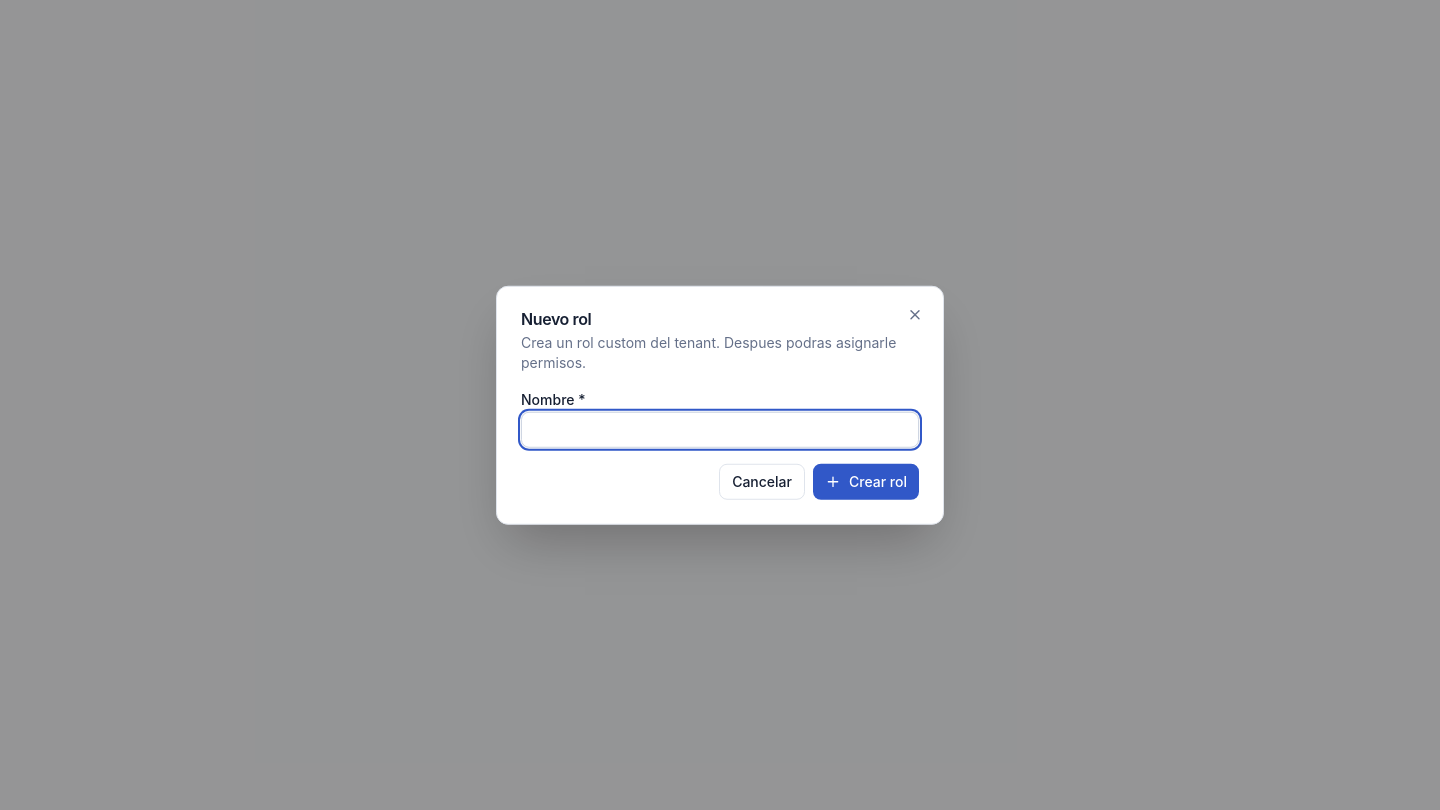
Test: RoleEditor › muestra error de validacion con nombre vacio
This screenshot has width=1440, height=810.
Click the button with test id "role-editor-submit" at (866, 481), box [813,463,919,499]
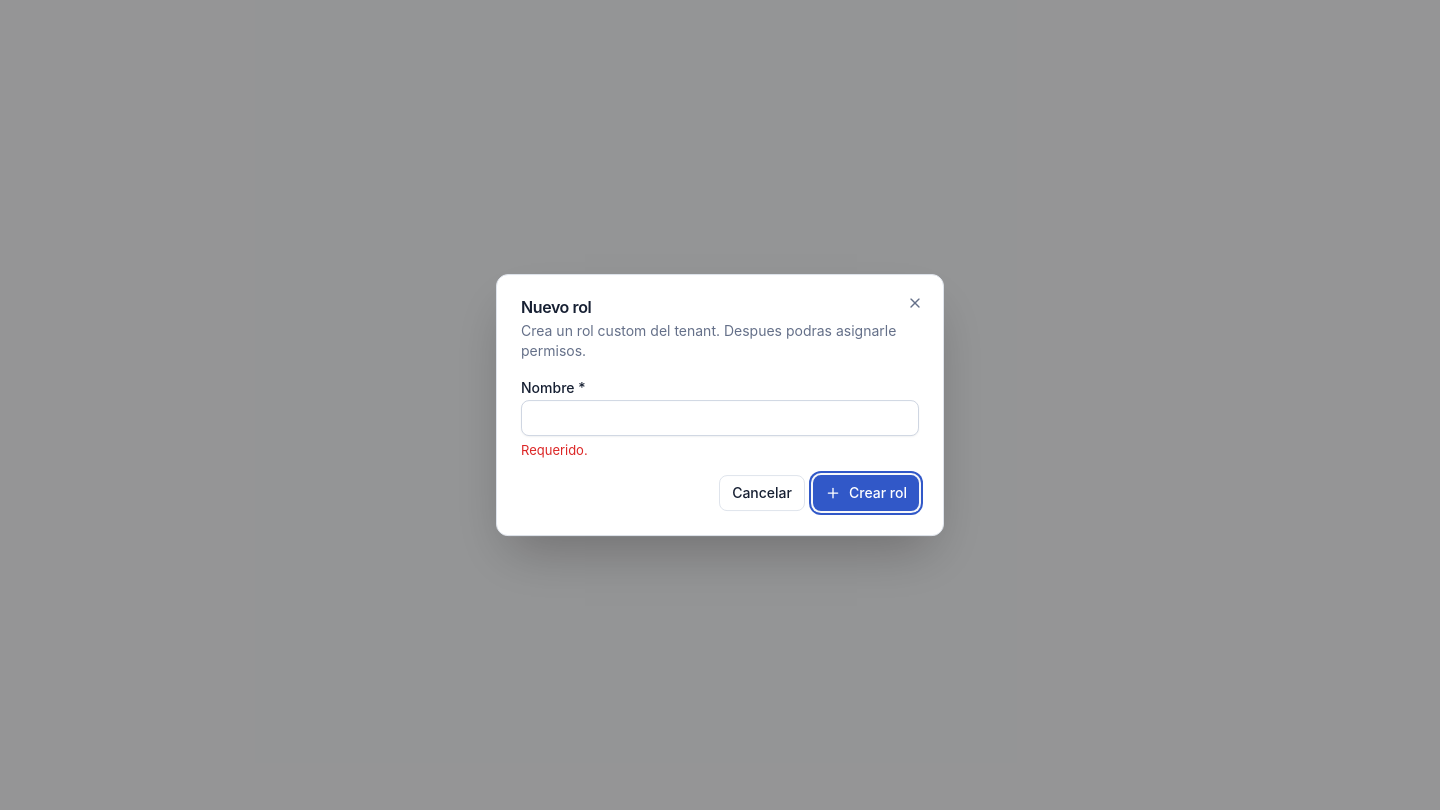
Result: the text "Requerido." is shown at [521,442,588,458]
